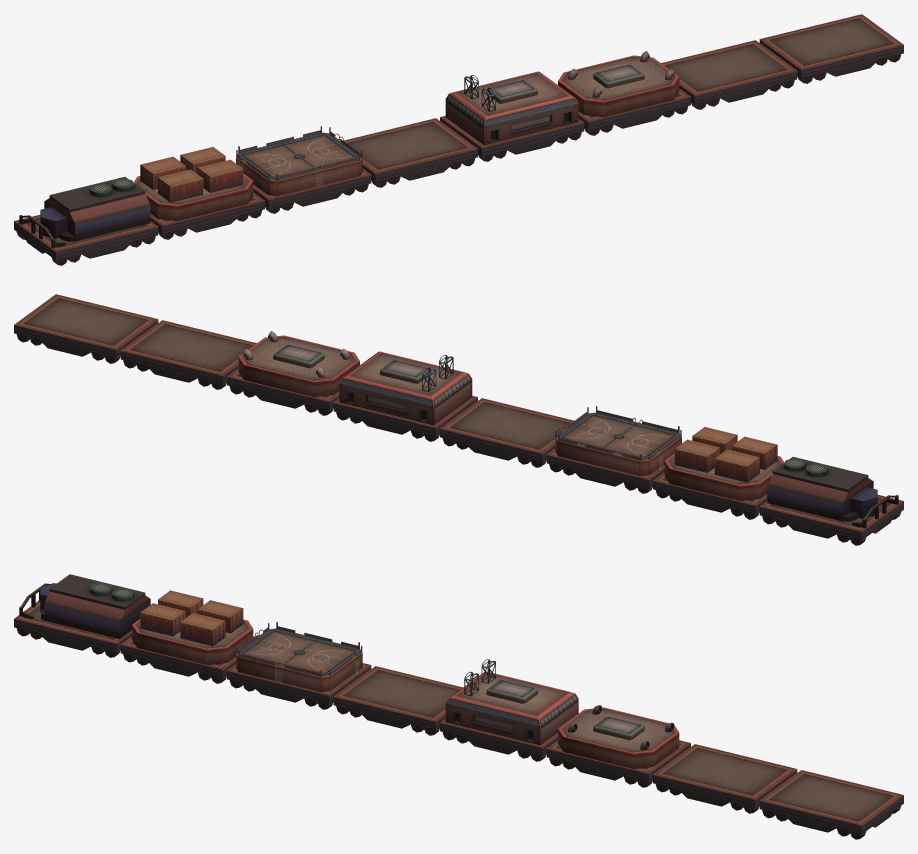
The model's file is S0_Train_Middle.FBX.
The picture shows the model from 3 angles, top to bottom: view 1: azimuth 30°, elevation 25°; view 2: azimuth 150°, elevation 25°; view 3: azimuth 330°, elevation 25°; orthographic projection.
Visible parts, largest first — view 1: S0_Train_Middle; view 2: S0_Train_Middle; view 3: S0_Train_Middle.
Part boxes in pixels (x1,y1,x2,y2): S0_Train_Middle: (14, 14, 903, 265); S0_Train_Middle: (14, 294, 903, 545); S0_Train_Middle: (14, 574, 903, 839).
Bounding box in the file's own units: 35833 × 3068 × 2493.
